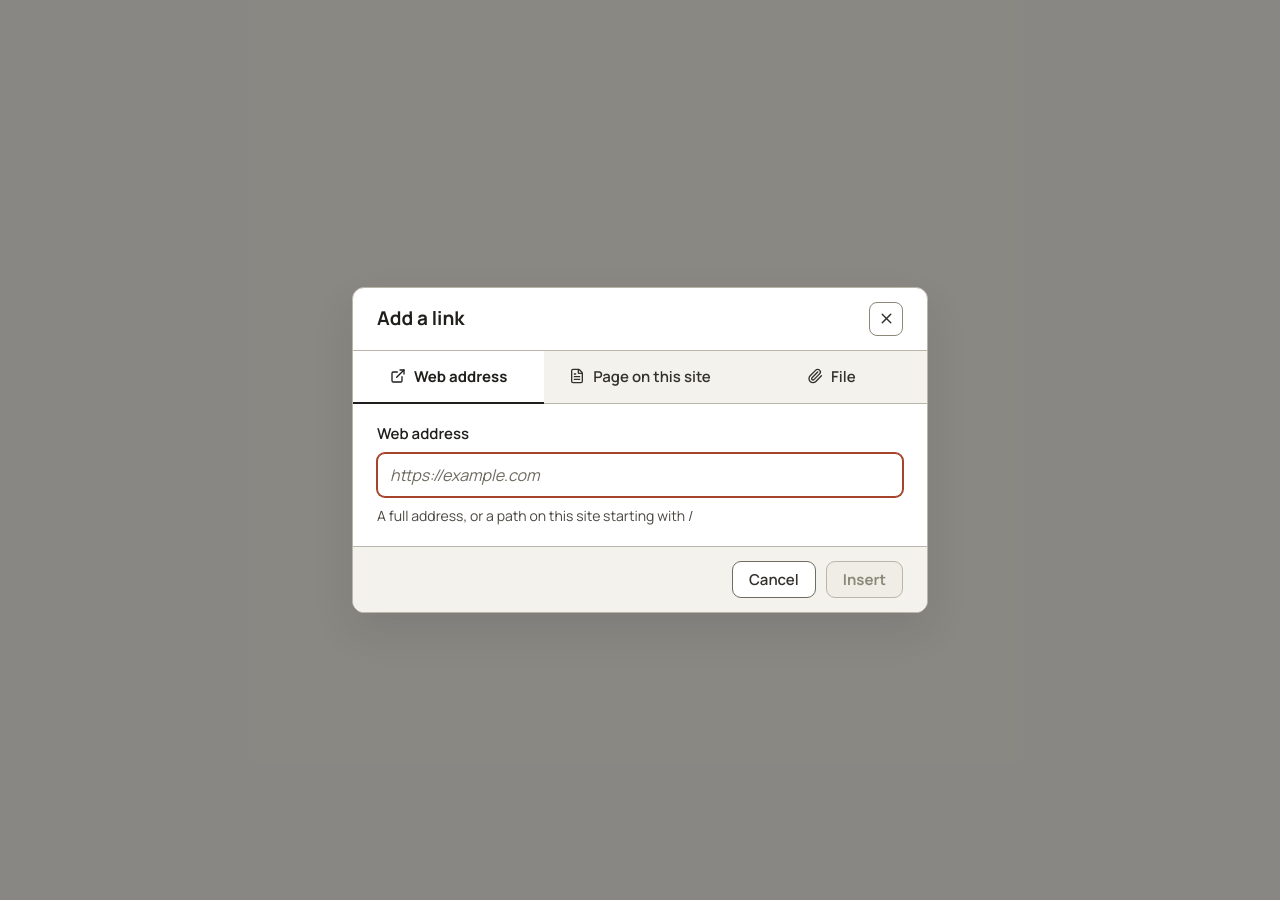
Test: LinkModal file links › lists documents and audio, but not images
What coordinates should you click on to do the following:
click the tab "File"
I would click on:
 (831, 377)
Its box is [736,351,927,404].
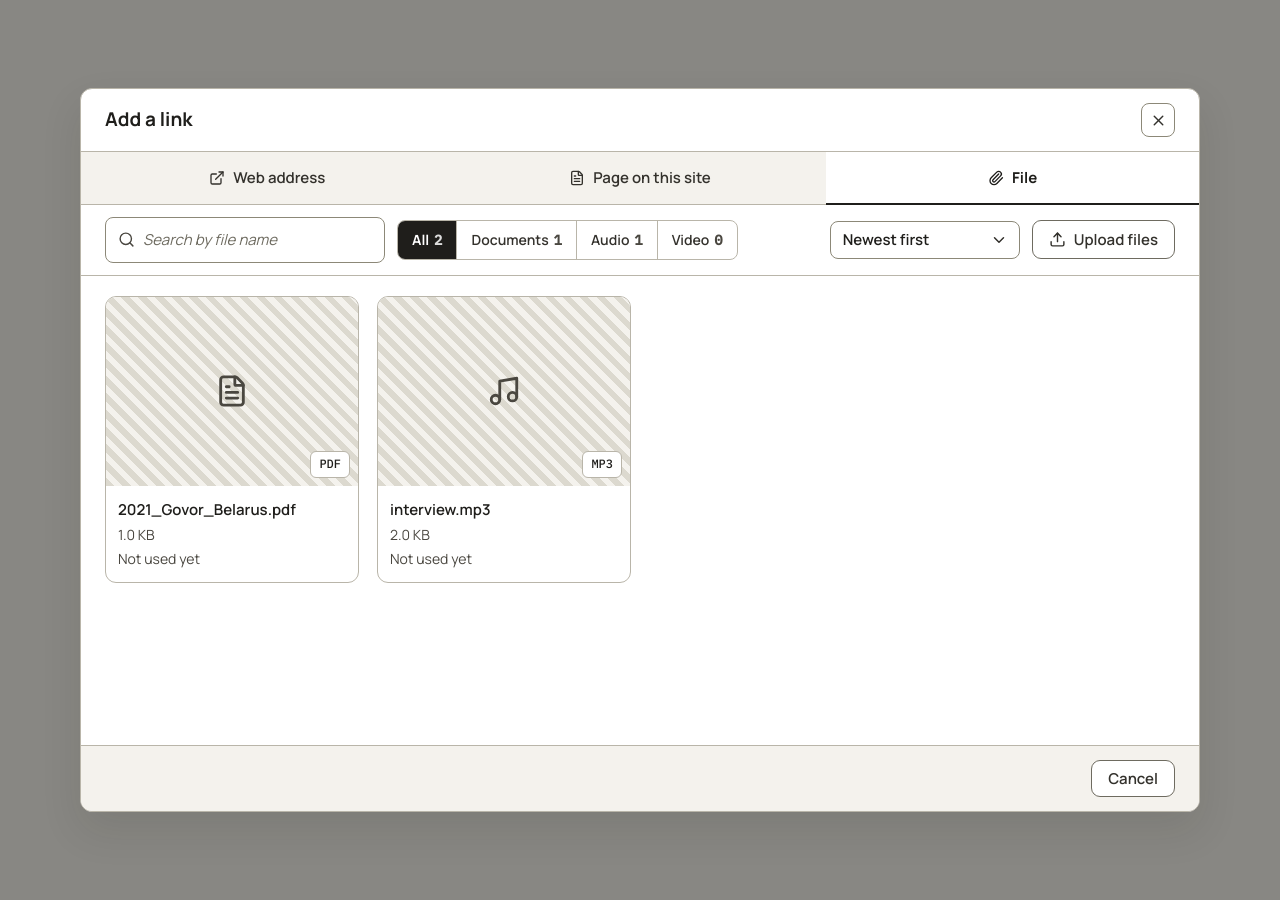
Expected: the text "2021_Govor_Belarus.pdf" is shown, [118,498,296,519]
Expected: the text "interview.mp3" is shown, [390,498,490,519]
